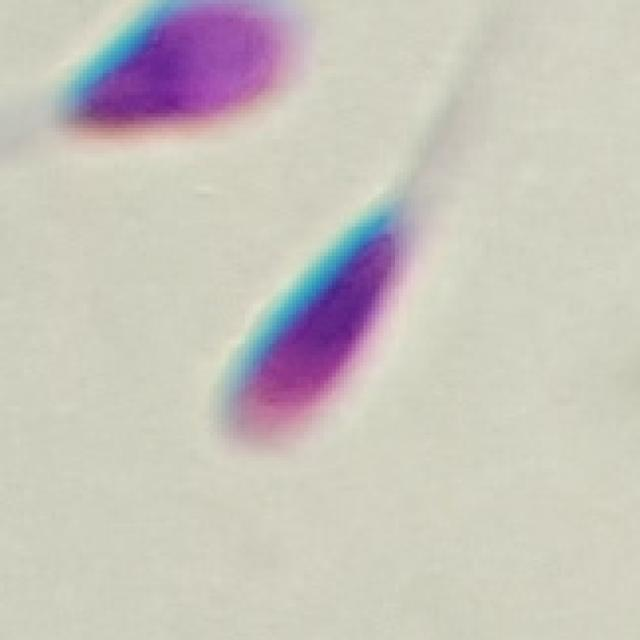abnormal sperm: (215, 127, 454, 450)
